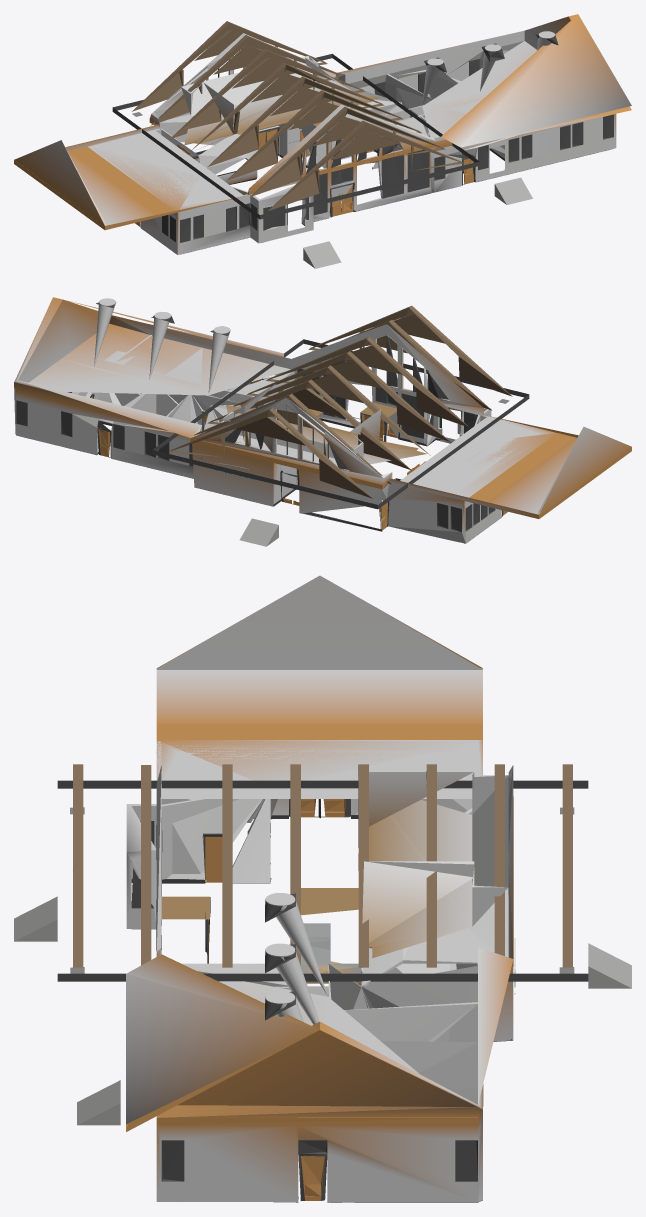
Rendered from terminal.zfix-v1.lod2.glb.
3 views of the same model, one above another, from view 1: azimuth 30°, elevation 25°; view 2: azimuth 150°, elevation 25°; view 3: azimuth 270°, elevation 25° (orthographic). The views are drawn at different scales.
Visible parts, largest first — view 1: Mesh1_Metal_Aluminum_Anodized_0; view 2: Mesh1_Metal_Aluminum_Anodized_0; view 3: Mesh1_Metal_Aluminum_Anodized_0.
Boxes of the visible parts, left/top/right/bottom form: Mesh1_Metal_Aluminum_Anodized_0: left=14, top=14, right=631, bottom=268; Mesh1_Metal_Aluminum_Anodized_0: left=14, top=297, right=631, bottom=546; Mesh1_Metal_Aluminum_Anodized_0: left=14, top=575, right=631, bottom=1202.
Bounding box in the file's own units: 39.46 × 8.58 × 22.6.
